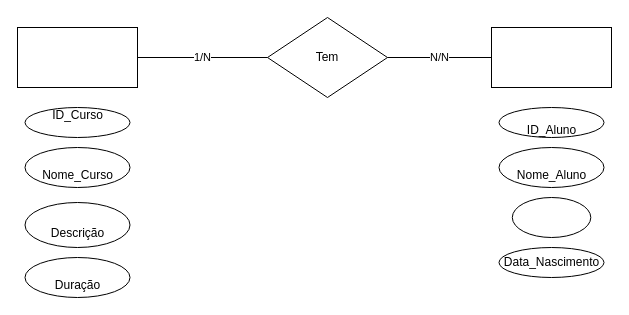
Image size: 629x315. Some labels were removed from this diagram. Here are the shapes that lost their labels. From the top down, the centre of each, then its label:
(x=77, y=57): Curso
(x=551, y=57): Aluno
(x=551, y=217): Email
